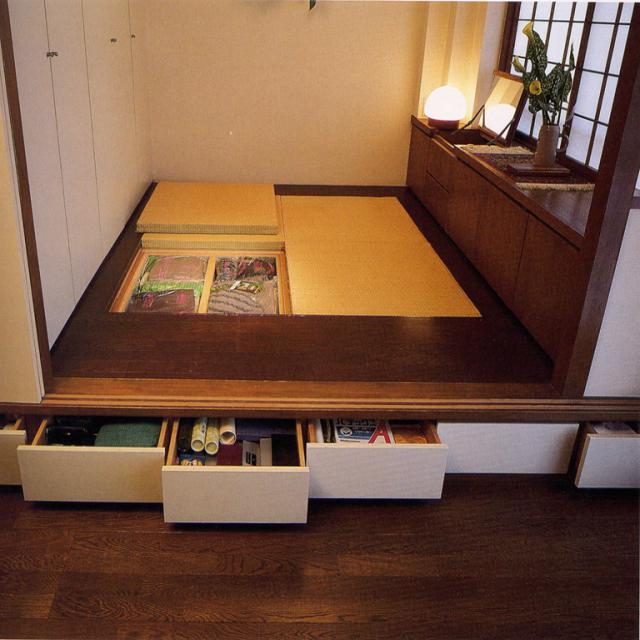carpet floor: (279, 195, 479, 313)
tatami: (286, 194, 473, 315)
